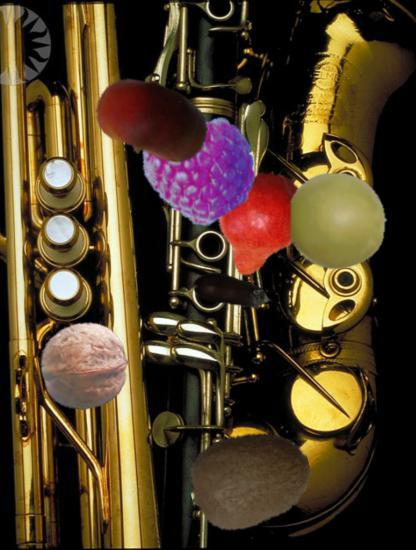Eggplant: (192, 250, 275, 333)
Grape: (288, 171, 388, 271)
Kiwi: (189, 419, 311, 541)
Nectarine: (94, 62, 210, 178)
Pear: (200, 169, 318, 287)
Raspberry: (145, 113, 256, 224)
Walnut: (40, 321, 130, 411)
